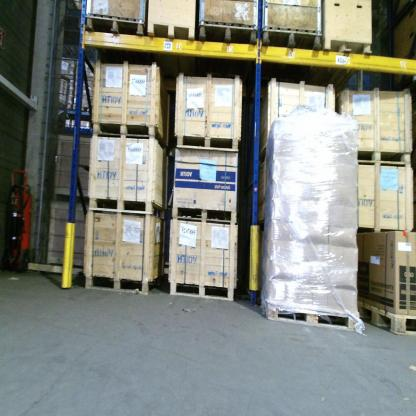pallet: (258, 284, 360, 340), (84, 8, 146, 64), (317, 34, 377, 91), (198, 15, 261, 67), (261, 28, 325, 72), (358, 294, 414, 339)
